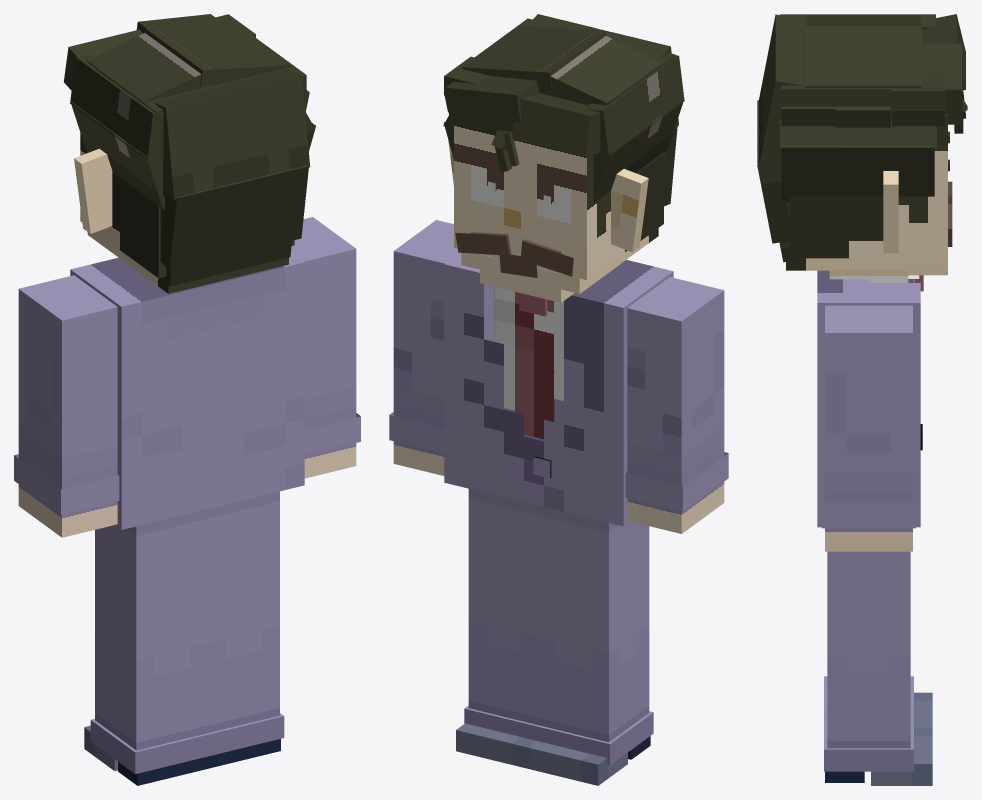
The picture shows the model from 3 angles, left to right: view 1: azimuth 30°, elevation 25°; view 2: azimuth 150°, elevation 25°; view 3: azimuth 270°, elevation 25°; orthographic projection. The views are drawn at different scales.
Parts seen in each view (by area): view 1: body, leftLeg (×3), leftArm (×2), rightLeg (×3), bone2 (×3), rightArm (×2), bone (×2), head (×3), bone15, bone9, bone16, bone6 (+3 smaller); view 2: body (×2), leftLeg (×3), leftArm (×2), head (×5), rightLeg (×3), rightArm (×2), bone15, bone16, bone9, bone3, bone19, bone6 (+6 smaller); view 3: rightArm (×2), rightLeg (×4), head (×5), bone8 (×2), bone15, body (×2), bone2 (×3), bone17 (×3), bone7 (×2), bone19, bone, bone16 (+3 smaller).
Part boxes in pixels (x1,y1,x2,y2): body: (70,252,304,529); leftLeg (×3): (90,509,212,785); leftArm (×2): (14,275,119,537); rightLeg (×3): (207,491,284,768); bone2 (×3): (153,69,310,200); rightArm (×2): (291,217,360,478); bone (×2): (160,165,308,286); head (×3): (80,31,306,293); bone15: (144,23,291,86); bone9: (70,55,163,159); bone16: (87,28,210,102); bone6: (70,101,164,209); body (×2): (444,252,673,526); leftLeg (×3): (528,506,653,785); leftArm (×2): (625,277,728,533); head (×5): (444,56,663,302); rightLeg (×3): (456,489,540,768); rightArm (×2): (389,220,491,475); bone15: (462,26,606,88); bone16: (543,31,662,105); bone9: (585,55,684,156); bone3: (511,93,600,156); bone19: (445,75,539,131); bone6: (593,99,684,202); rightArm (×2): (821,305,915,551); rightLeg (×4): (824,551,932,785); head (×5): (781,15,947,270); bone8 (×2): (781,145,934,201); bone15: (805,26,921,87); body (×2): (817,270,920,527); bone2 (×3): (758,14,802,171); bone17 (×3): (781,106,944,127); bone7 (×2): (780,118,936,149); bone19: (891,43,962,124); bone: (757,100,789,243); bone16: (806,14,920,25).
Bounding box in the file's own units: 0.9937 × 2.25 × 0.6002.
Materials: 1 (1 with a texture image).
